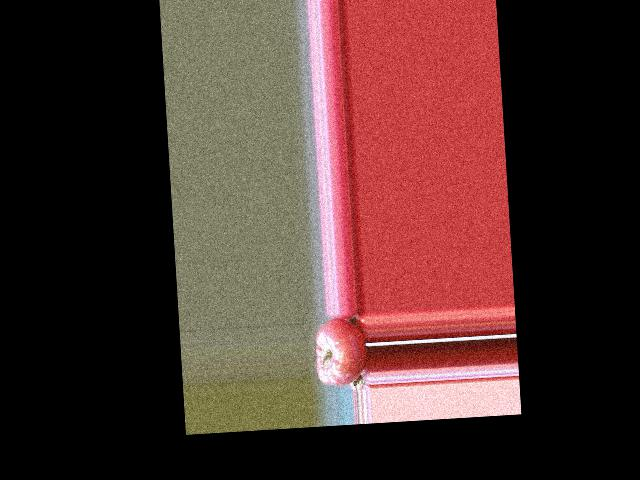tomato: (314, 315, 368, 387)
